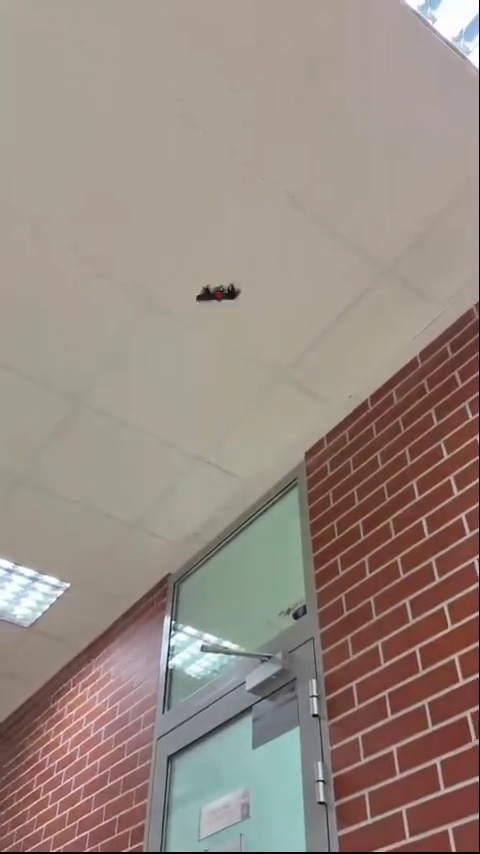drone: (195, 279, 242, 304)
